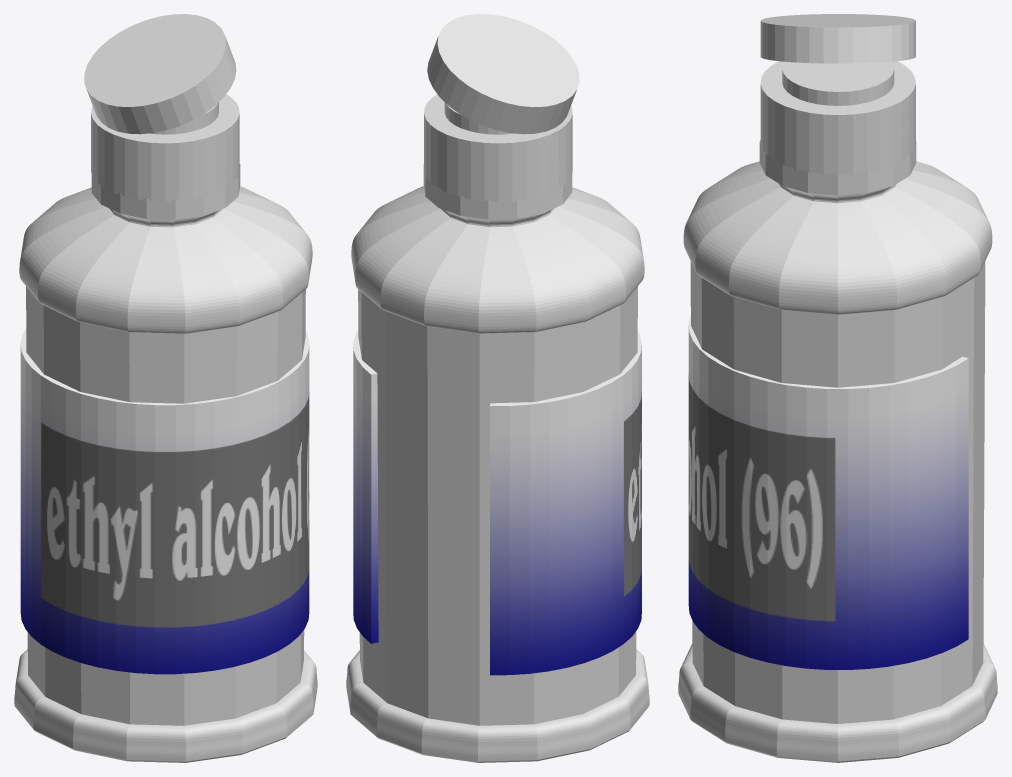
Rendered from Ethyl Alcohol (96).dae.
The picture shows the model from 3 angles, left to right: view 1: azimuth 30°, elevation 25°; view 2: azimuth 150°, elevation 25°; view 3: azimuth 270°, elevation 25°; orthographic projection. The views are drawn at different scales.
Parts seen in each view (by area): view 1: Line001, Cylinder005, Cylinder002, Cylinder001, Cylinder003; view 2: Line001, Cylinder005, Cylinder002, Cylinder001, Cylinder003; view 3: Line001, Cylinder005, Cylinder001, Cylinder002, Cylinder003.
Part boxes in pixels (x1,y1,x2,y2): Line001: (14, 164, 317, 762); Cylinder005: (20, 328, 309, 674); Cylinder002: (84, 14, 236, 134); Cylinder001: (91, 94, 239, 201); Cylinder003: (149, 102, 218, 134); Line001: (346, 164, 649, 762); Cylinder005: (353, 330, 641, 675); Cylinder002: (427, 14, 579, 134); Cylinder001: (424, 94, 572, 201); Cylinder003: (444, 102, 514, 134); Line001: (678, 140, 997, 762); Cylinder005: (688, 314, 968, 669); Cylinder001: (760, 61, 915, 175); Cylinder002: (760, 14, 915, 63); Cylinder003: (782, 61, 894, 105).
Bounding box in the file's own units: 10.78 × 25.9 × 10.78.
